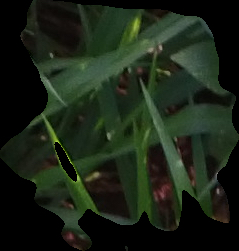grass: (1, 1, 238, 250)
